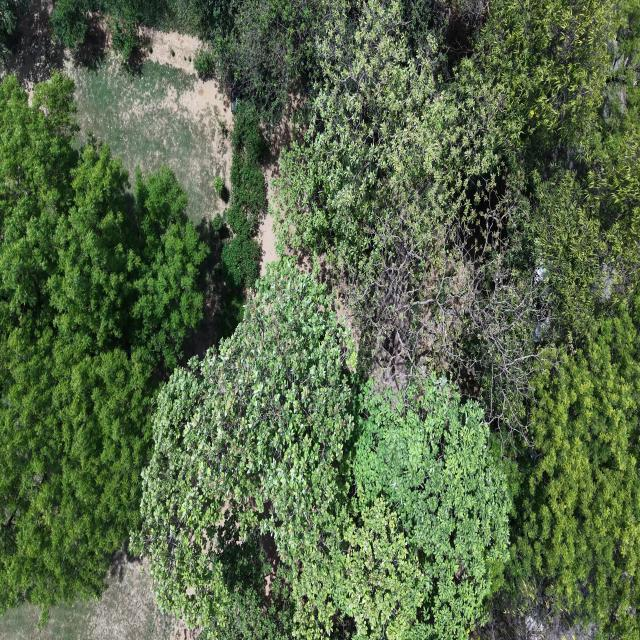DRY_AREA: (7, 0, 232, 221), (8, 0, 232, 221), (64, 30, 232, 222), (64, 54, 231, 222), (0, 554, 190, 639)
VEGETATION_TREE: (0, 0, 639, 639), (279, 0, 639, 638), (280, 2, 639, 438), (137, 259, 509, 638), (279, 0, 545, 430), (0, 74, 208, 613), (137, 263, 356, 637), (475, 0, 639, 347), (482, 296, 639, 638), (341, 371, 510, 638), (514, 306, 639, 637), (52, 0, 328, 127), (470, 0, 626, 172), (528, 155, 639, 345), (195, 0, 330, 127), (130, 168, 208, 370), (52, 0, 227, 49), (185, 214, 244, 356), (222, 101, 267, 287), (51, 0, 146, 69), (51, 0, 93, 50), (111, 7, 142, 68), (0, 0, 18, 65), (194, 49, 216, 79), (213, 176, 229, 202), (147, 45, 152, 53), (170, 48, 174, 57), (188, 56, 191, 62)
